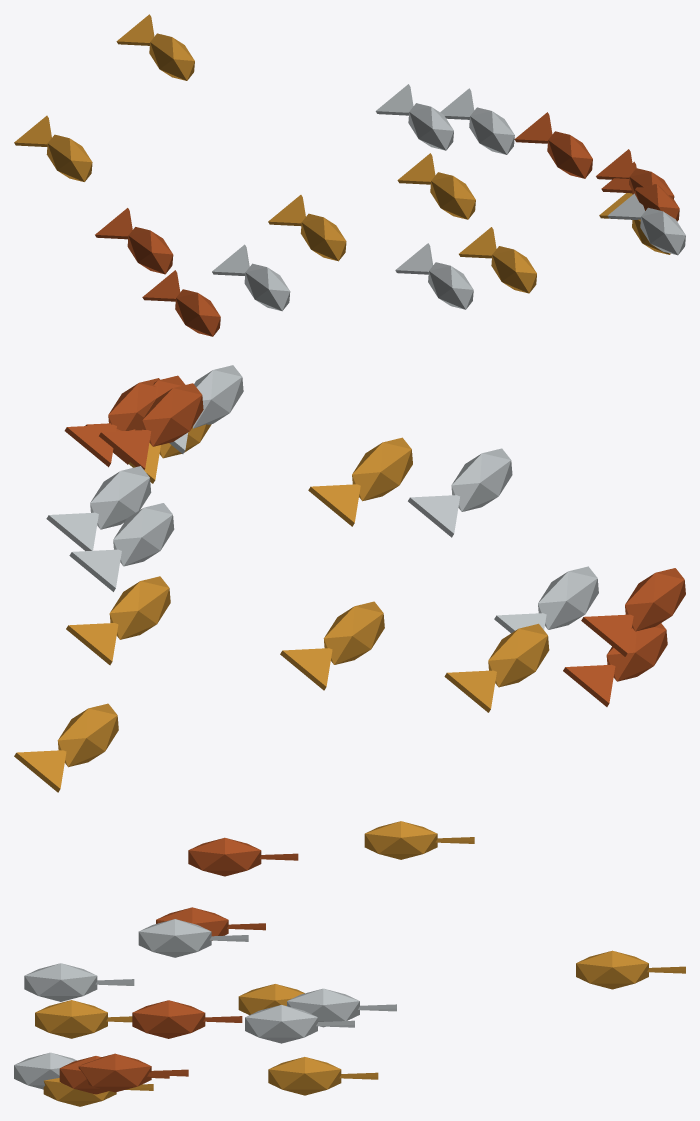
The model's file is animal_fish_school.glb.
3 views of the same model, one above another, from view 1: azimuth 30°, elevation 25°; view 2: azimuth 150°, elevation 25°; view 3: azimuth 270°, elevation 25° (orthographic). The views are drawn at different scales.
Parts seen in each view (by area): view 1: animal_fish_school; view 2: animal_fish_school; view 3: animal_fish_school.
Part boxes in pixels (left/top/right/bottom): animal_fish_school: left=14, top=14, right=685, bottom=336; animal_fish_school: left=14, top=365, right=685, bottom=792; animal_fish_school: left=14, top=821, right=685, bottom=1106.
Bounding box in the file's own units: 2.6 × 0.638 × 3.29.
